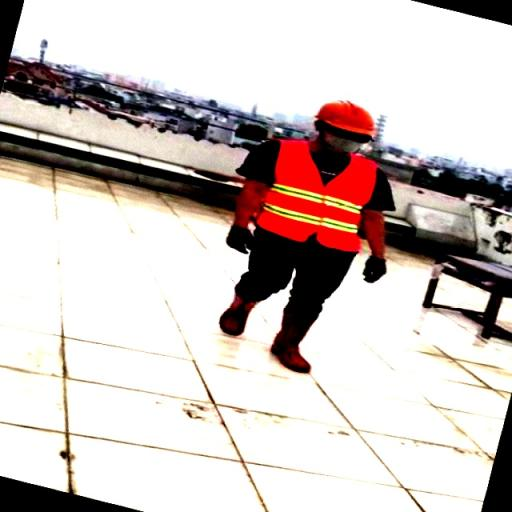Person: (198, 60, 404, 430)
boots: (267, 307, 312, 377), (216, 274, 258, 348)
gloves: (222, 221, 259, 256), (356, 252, 392, 284)
helmet: (304, 98, 386, 140)
vest: (263, 126, 370, 270)
